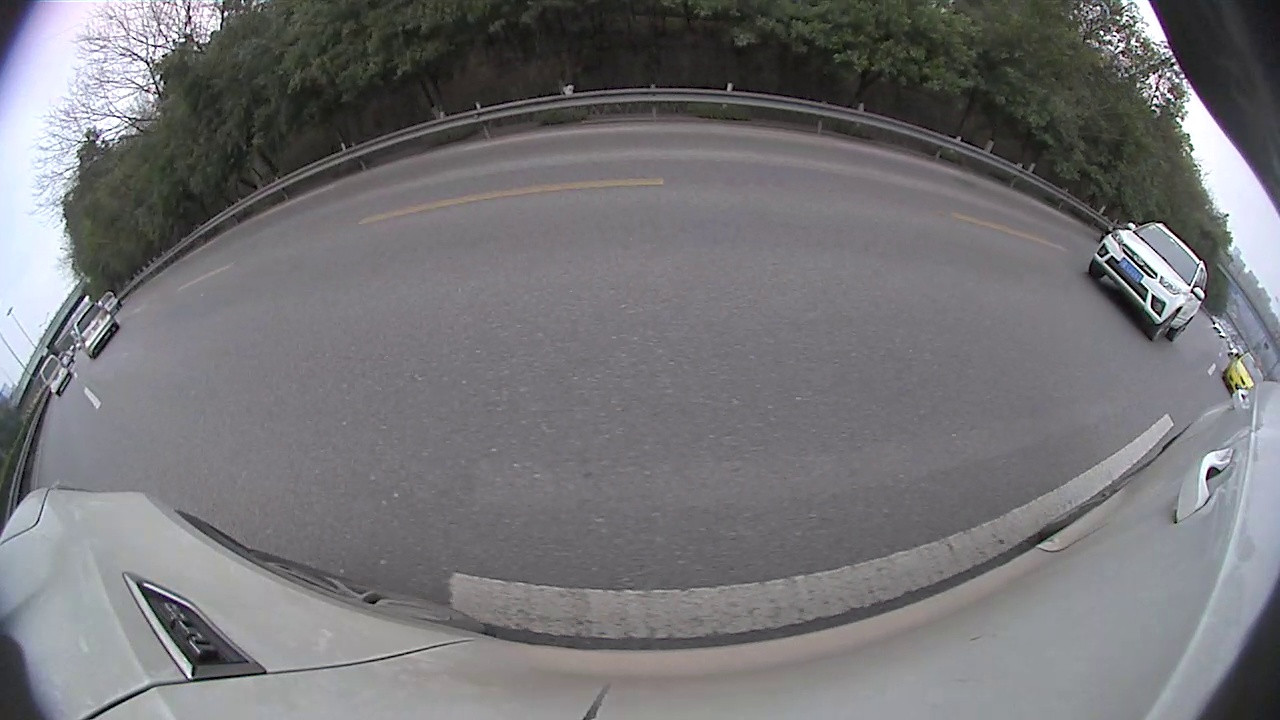car: (1086, 219, 1210, 344), (73, 301, 121, 360), (1220, 351, 1265, 397), (38, 353, 74, 397), (97, 289, 123, 318)
front: (1152, 309, 1178, 343)
